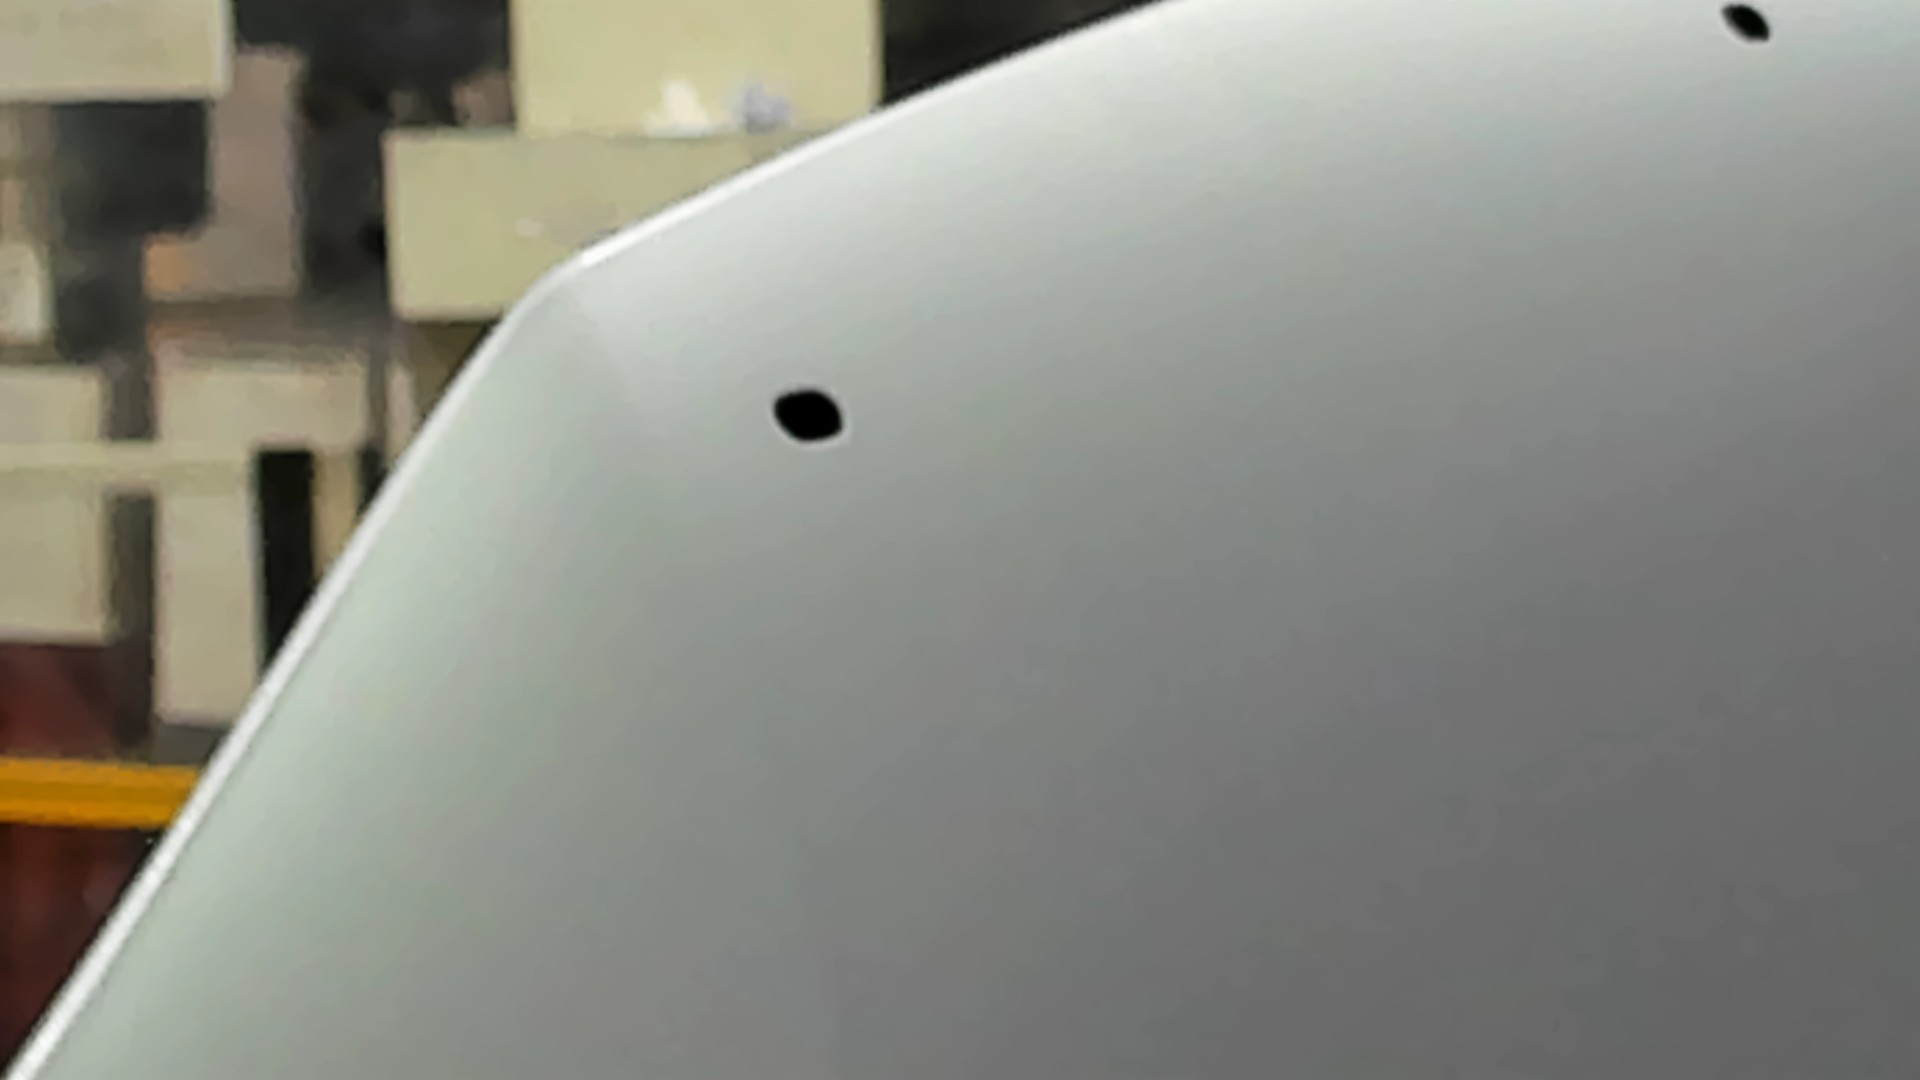amorfo: (771, 386, 851, 450), (1718, 1, 1775, 49)
